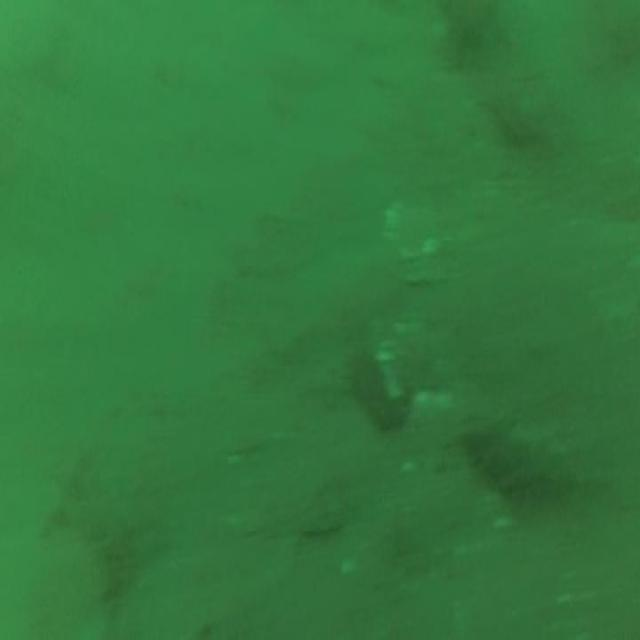holothurian: (454, 378, 574, 499)
